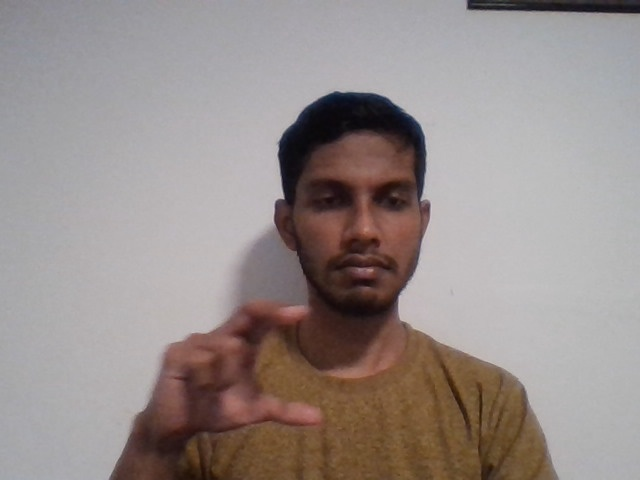no: (121, 299, 349, 443)
